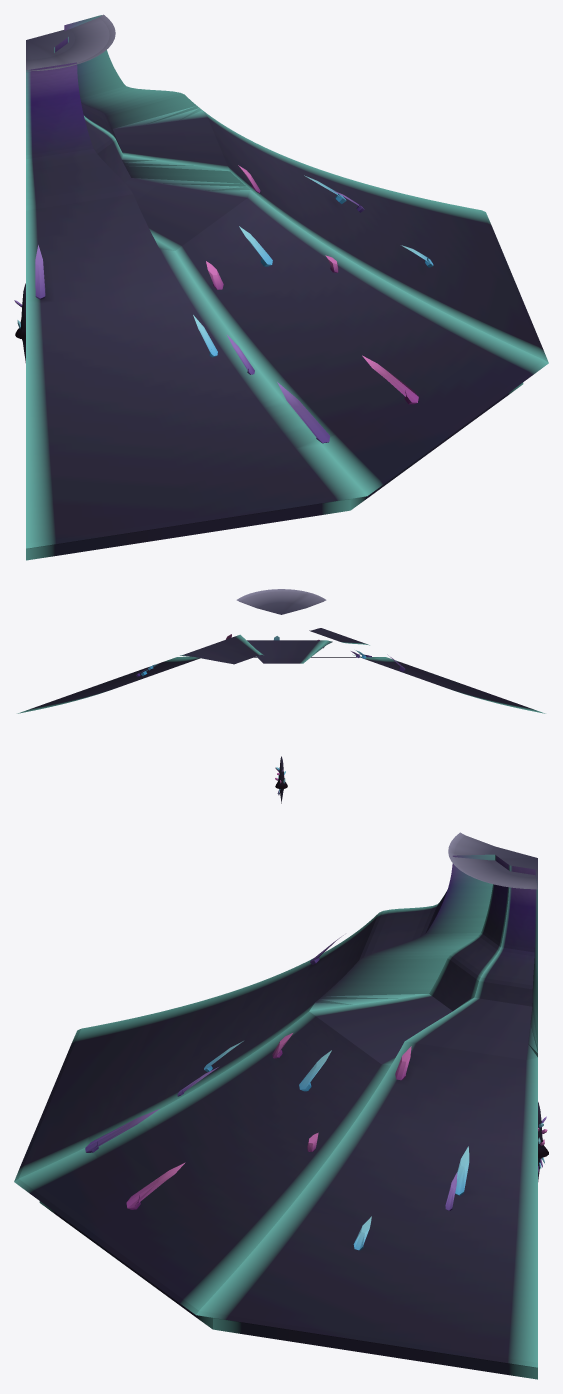
Rendered from caverns-s1-AtFm3IIp.glb.
The picture shows the model from 3 angles, top to bottom: view 1: azimuth 30°, elevation 25°; view 2: azimuth 150°, elevation 25°; view 3: azimuth 270°, elevation 25°; orthographic projection. The views are drawn at different scales.
Visible parts, largest first — view 1: sc_landmark_2; view 2: sc_landmark_2; view 3: sc_landmark_2.
Part boxes in pixels (x1,y1,x2,y2): sc_landmark_2: (26, 14, 548, 560); sc_landmark_2: (17, 589, 545, 713); sc_landmark_2: (14, 832, 537, 1379).
Bounding box in the file's own units: 648 × 298 × 435.
